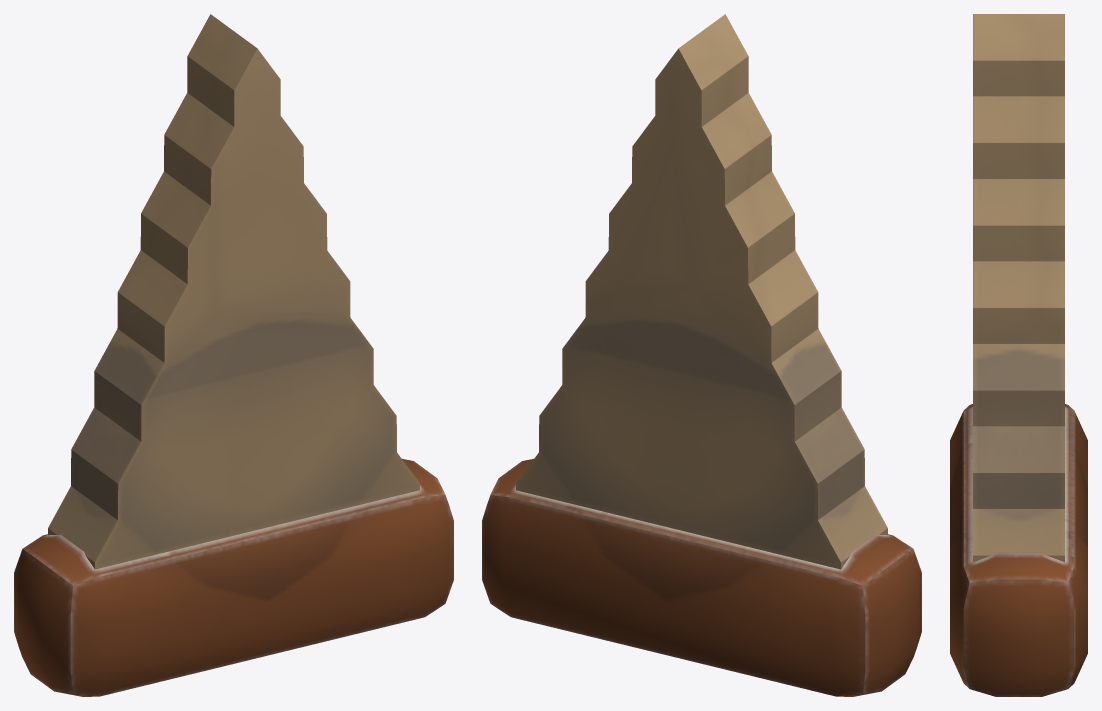
File: tooth.glb
3 renders of one model, left to right at view 1: azimuth 30°, elevation 25°; view 2: azimuth 150°, elevation 25°; view 3: azimuth 270°, elevation 25°, orthographic. The views are drawn at different scales.
Parts seen in each view (by area): view 1: SM_Tooth; view 2: SM_Tooth; view 3: SM_Tooth.
Part boxes in pixels (x1,y1,x2,y2): SM_Tooth: [14, 14, 453, 696]; SM_Tooth: [482, 14, 921, 696]; SM_Tooth: [950, 14, 1087, 696].
Size of the model in its own units: 0.25 by 0.3625 by 0.075.
2 materials, 2 textured.
